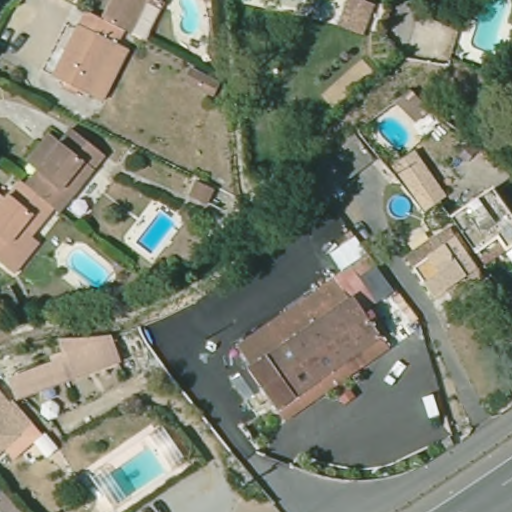pool: (94, 443, 167, 497), (466, 1, 512, 53), (65, 243, 113, 291), (133, 207, 180, 254), (371, 110, 414, 153), (174, 1, 208, 43), (384, 190, 420, 222)
